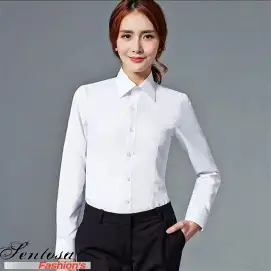celana_benar: (79, 212, 181, 271)
kemeja_benar: (53, 72, 210, 203)
